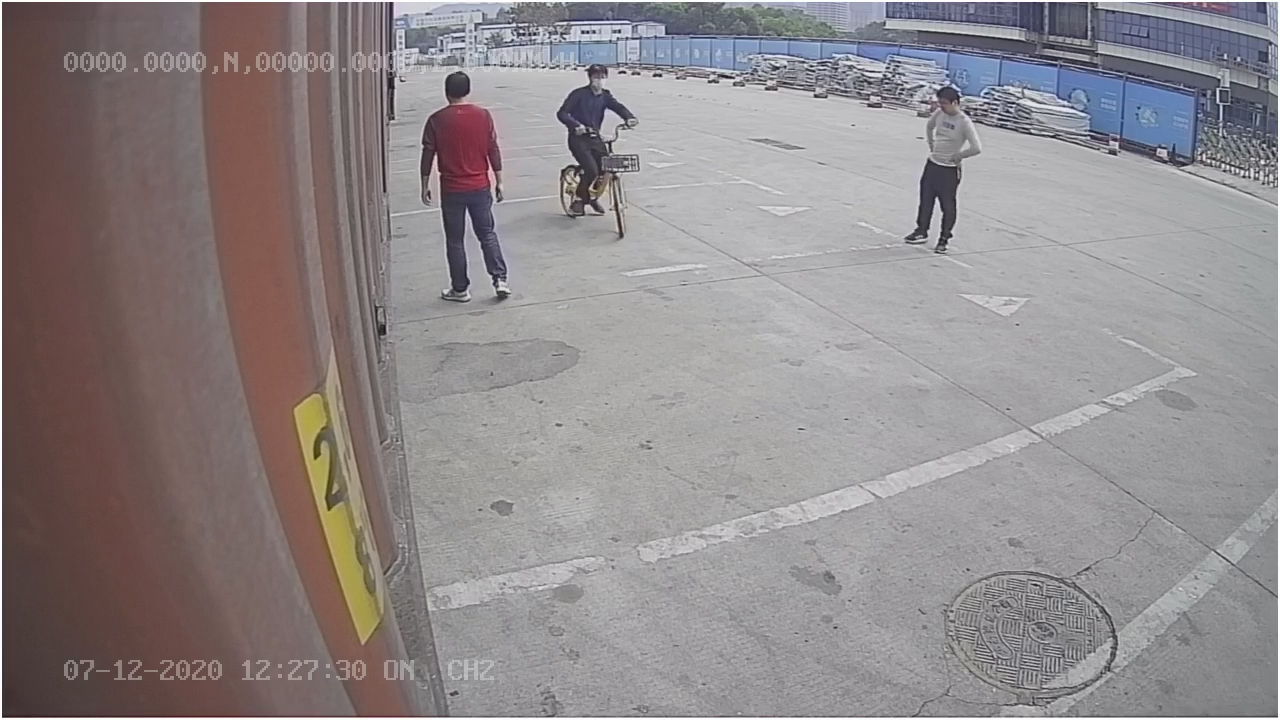person: (411, 67, 516, 304)
